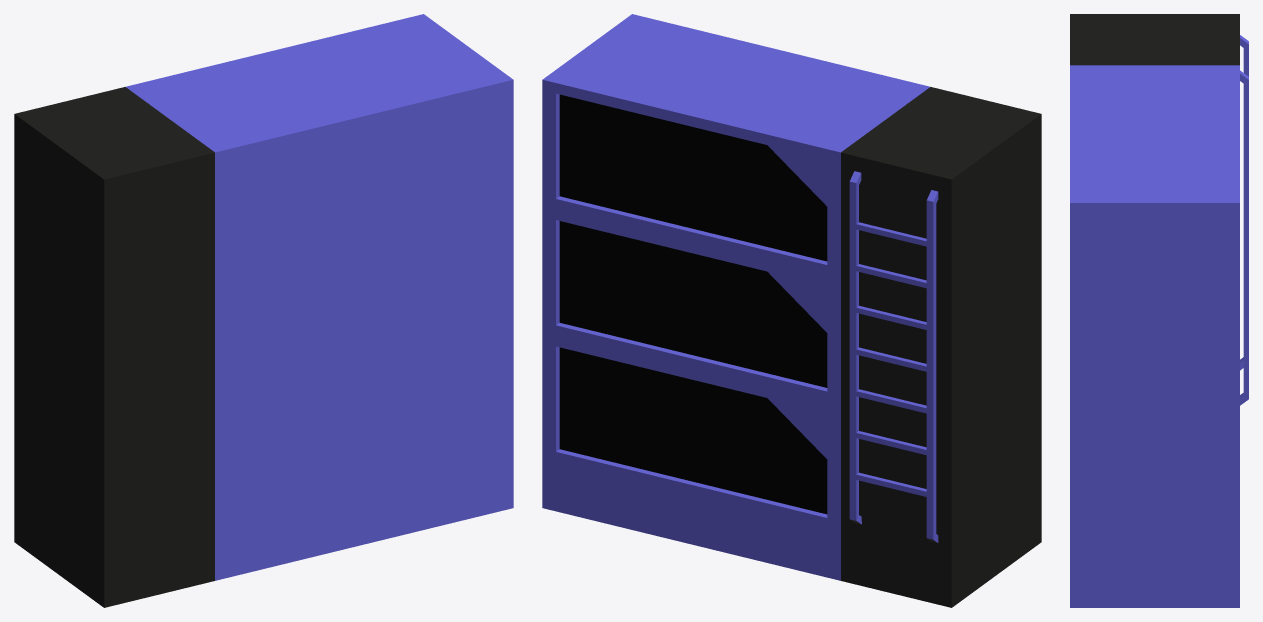
Rendered from Bed_0.fbx.
The picture shows the model from 3 angles, left to right: view 1: azimuth 30°, elevation 25°; view 2: azimuth 150°, elevation 25°; view 3: azimuth 270°, elevation 25°; orthographic projection. The views are drawn at different scales.
Visible parts, largest first — view 1: beds.005; view 2: beds.005; view 3: beds.005.
Part boxes in pixels (<box>): beds.005: <box>14,14,513,607</box>; beds.005: <box>542,14,1041,607</box>; beds.005: <box>1070,14,1248,607</box>.
Bounding box in the file's own units: 5 × 2 × 5.
